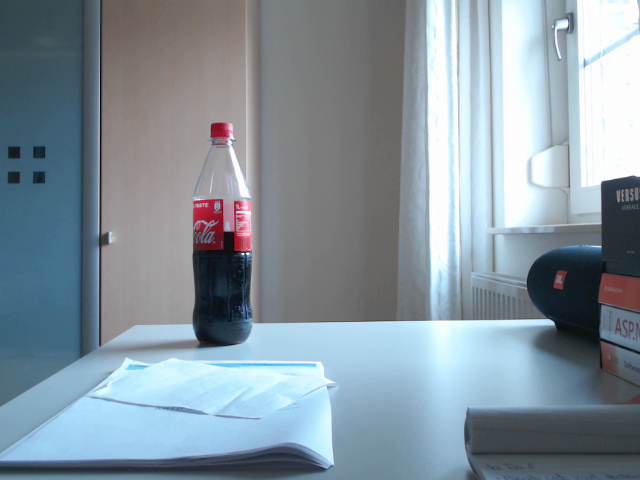bottle: (190, 120, 255, 347)
